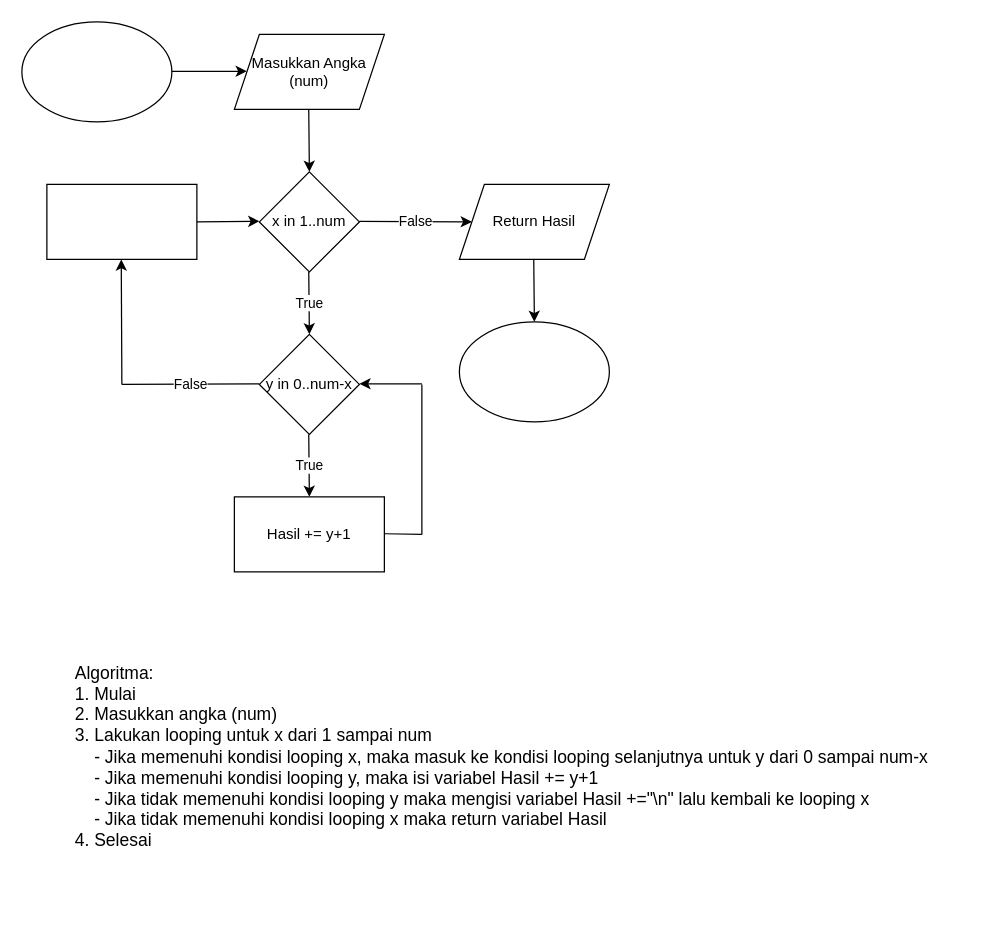
The diagram is 993 pixels wide and 944 high, and some of its shapes have lost their labels. The centre of each missing label's shape, as x and y in pixels:
Hasil +="\n": point 121,221
Mulai: point 96,71
Selesai: point 533,371
